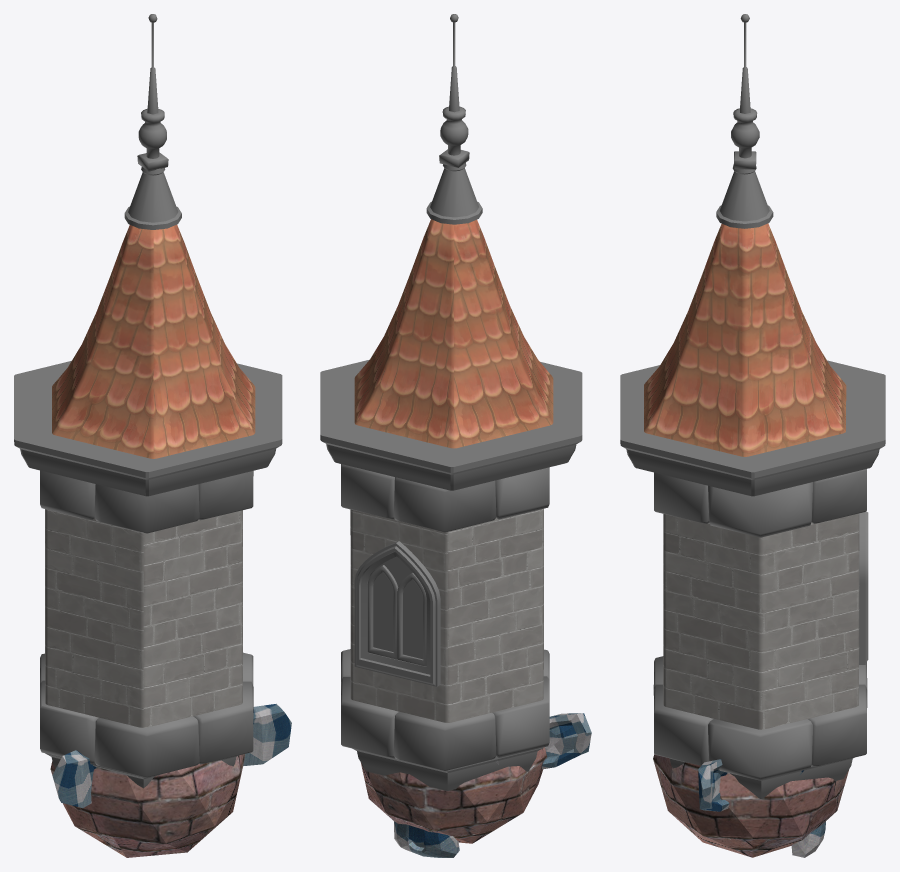
File: three_in_origin.obj
3 renders of one model, left to right at view 1: azimuth 30°, elevation 25°; view 2: azimuth 150°, elevation 25°; view 3: azimuth 270°, elevation 25°, orthographic. The views are drawn at different scales.
Visible parts, largest first — view 1: Object33148, Icosphere, Suzanne; view 2: Object33148, Icosphere, Suzanne; view 3: Object33148, Icosphere, Suzanne.
Part boxes in pixels (bbox=[...]): Object33148: bbox=[14, 14, 282, 788]; Icosphere: bbox=[50, 754, 244, 857]; Suzanne: bbox=[52, 703, 291, 808]; Object33148: bbox=[320, 14, 582, 790]; Icosphere: bbox=[361, 747, 546, 843]; Suzanne: bbox=[394, 713, 591, 857]; Object33148: bbox=[620, 14, 885, 798]; Icosphere: bbox=[653, 754, 848, 857]; Suzanne: bbox=[698, 759, 825, 857].
Bounding box in the file's own units: 3.08 × 9.25 × 2.66.
8 materials, 4 textured.
